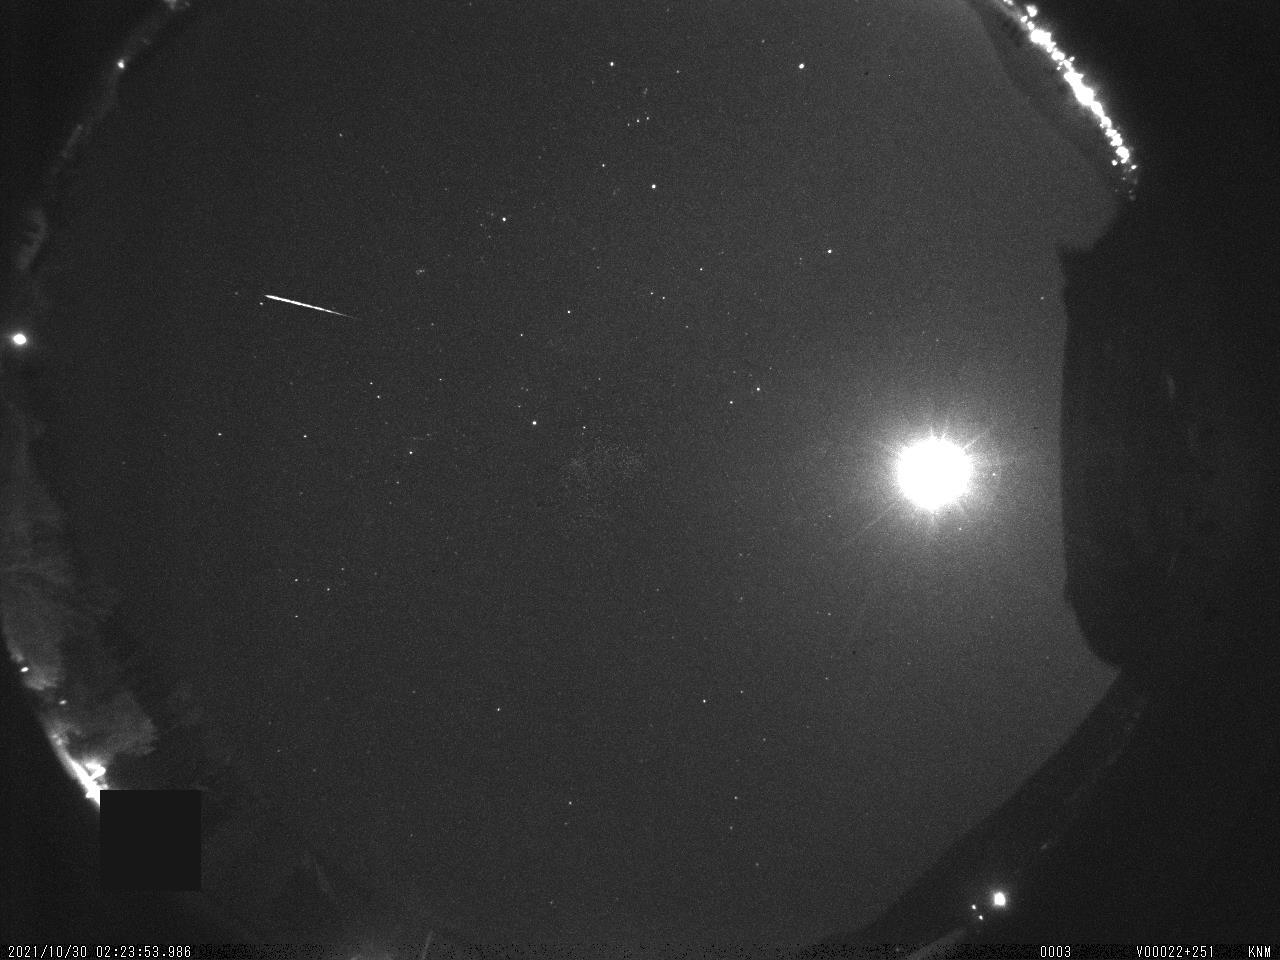meteor: (253, 281, 381, 332)
